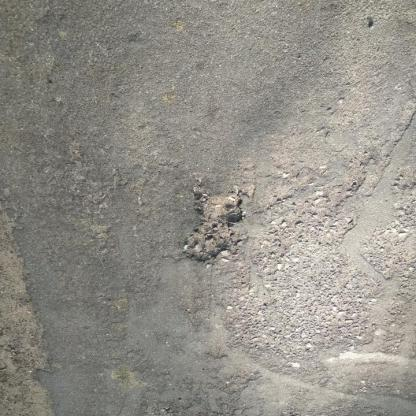pothole: (186, 192, 250, 267)
